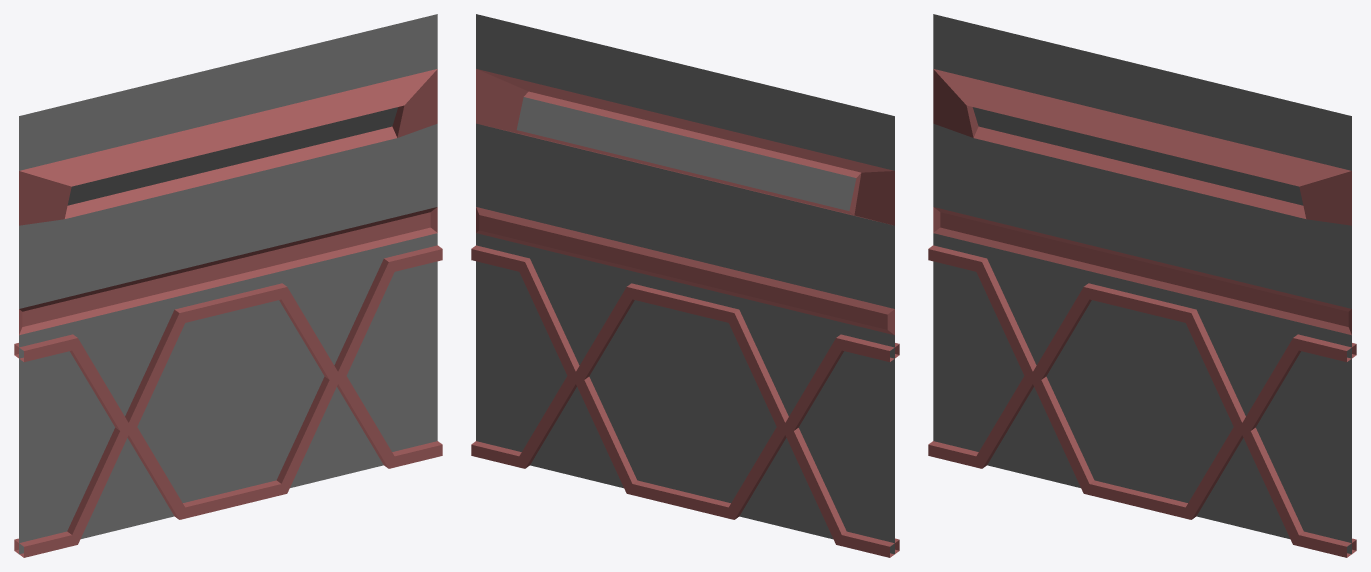
Rendered from SM_Module_6.fbx.
3 views of the same model, side by side, from view 1: azimuth 30°, elevation 25°; view 2: azimuth 150°, elevation 25°; view 3: azimuth 330°, elevation 25° (orthographic).
Visible parts, largest first — view 1: SM_Module_6; view 2: SM_Module_6; view 3: SM_Module_6.
Boxes of the visible parts, x1,y1,x2,y2 form: SM_Module_6: [14, 14, 442, 557]; SM_Module_6: [471, 14, 899, 557]; SM_Module_6: [928, 14, 1356, 557].
Bounding box in the file's own units: 300 × 300 × 17.93.
